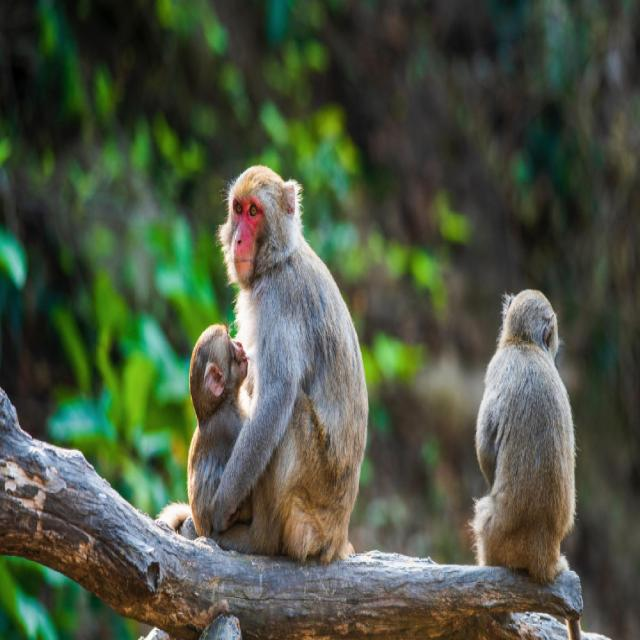Animals: (196, 146, 345, 444), (476, 262, 582, 597), (176, 319, 262, 536)
